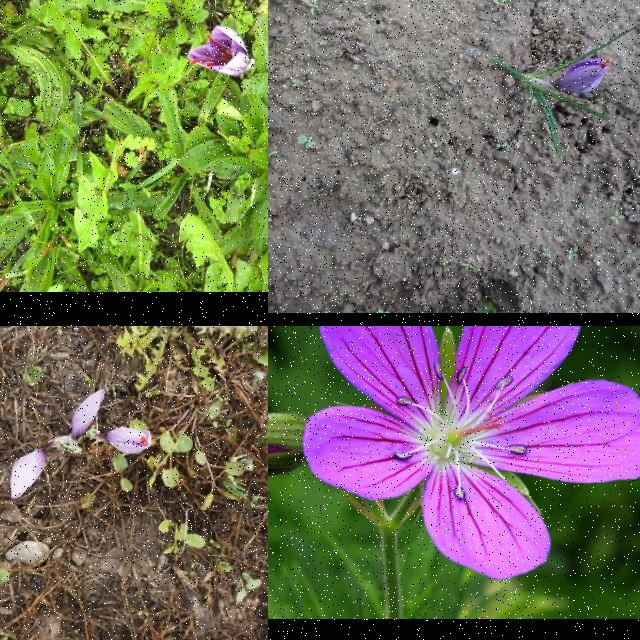flower: (186, 26, 252, 78), (551, 58, 611, 94), (67, 388, 106, 439), (10, 450, 48, 500), (108, 428, 154, 456)
